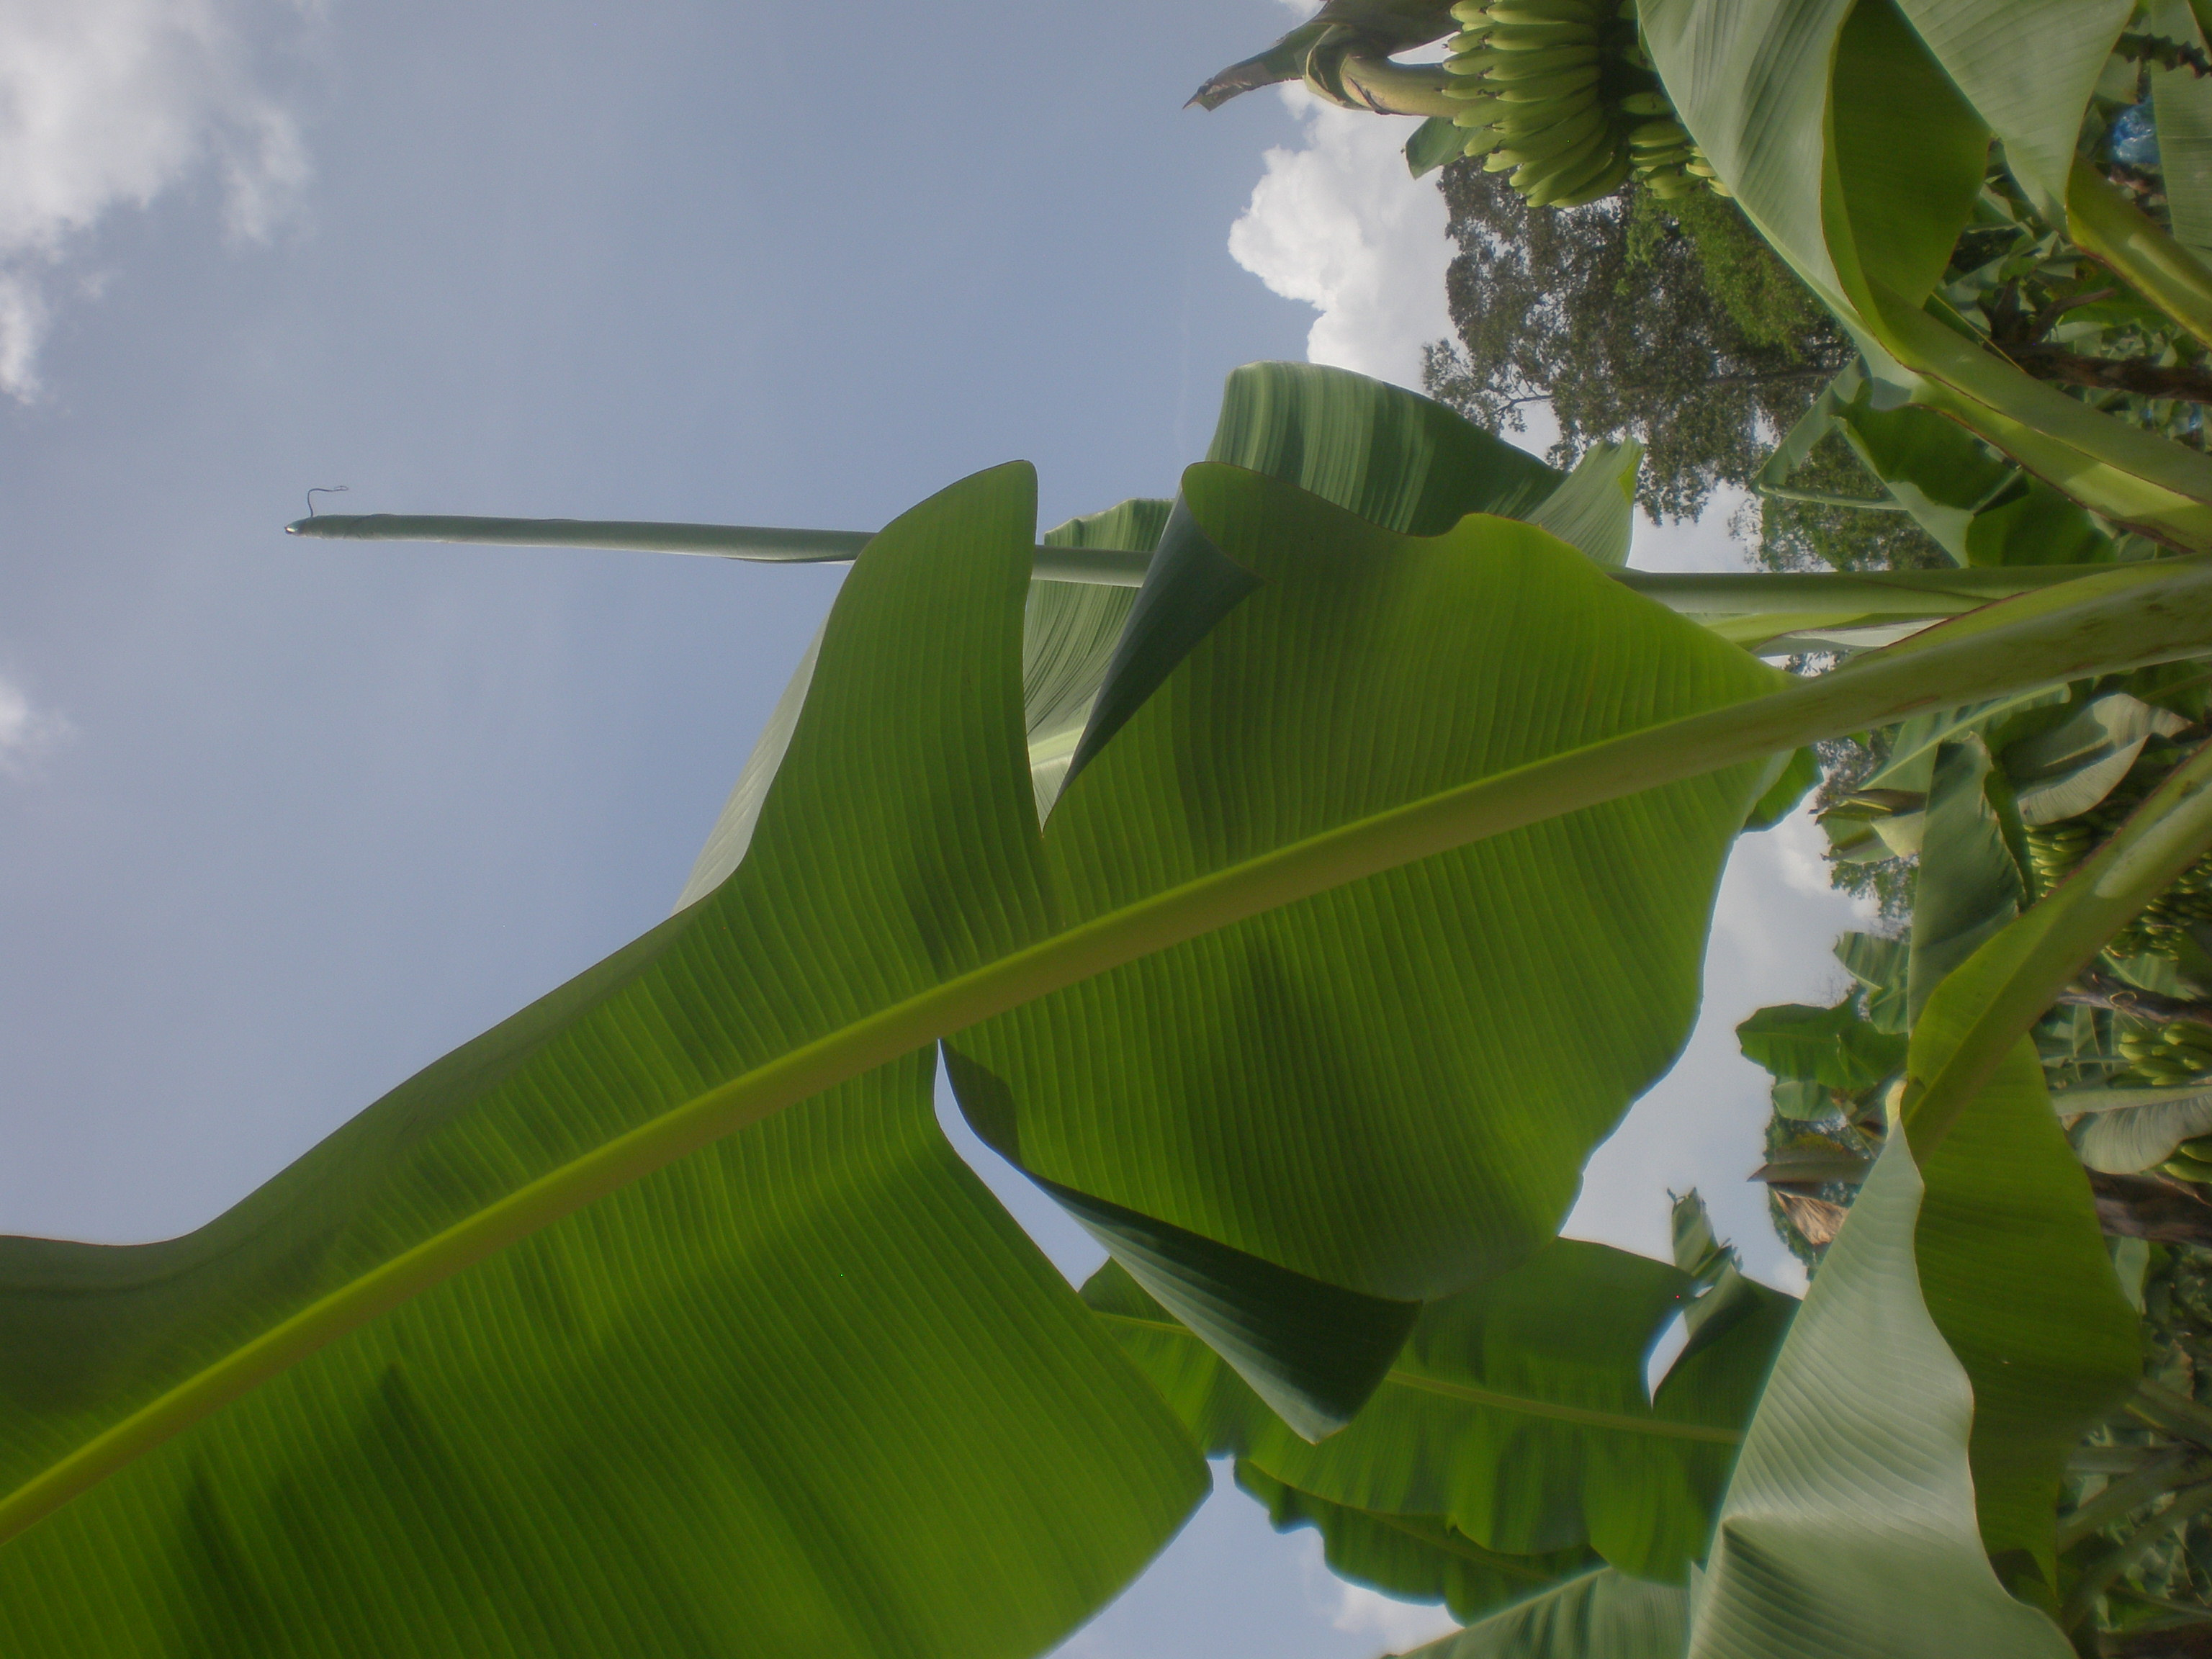candleleafs: (282, 481, 1942, 629)
